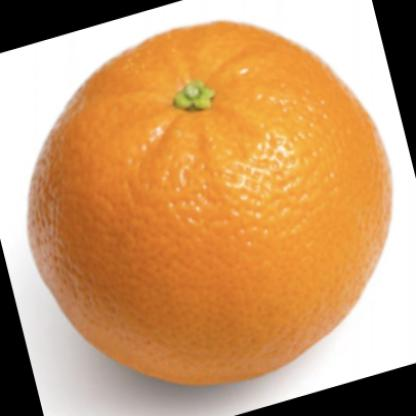orange: (26, 20, 395, 386)
